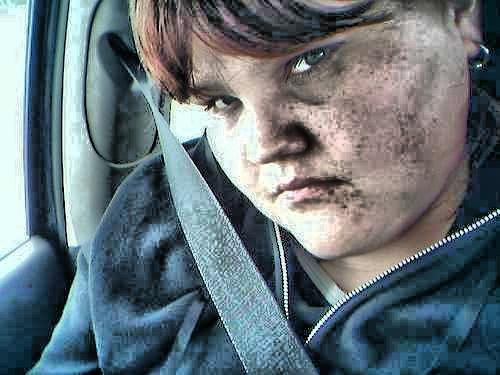seatbelt: (97, 34, 314, 364)
